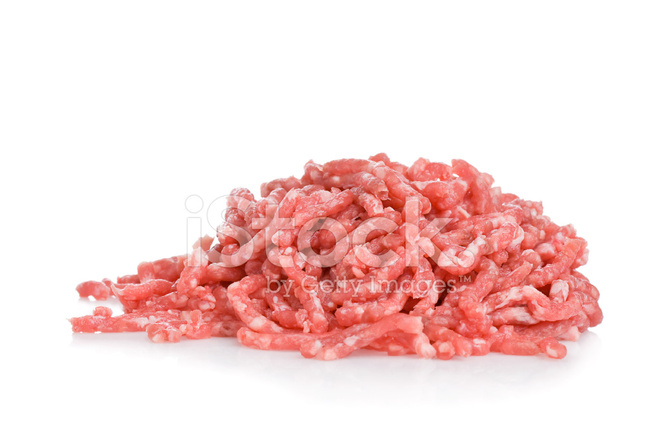ground_beef: (89, 161, 605, 373)
